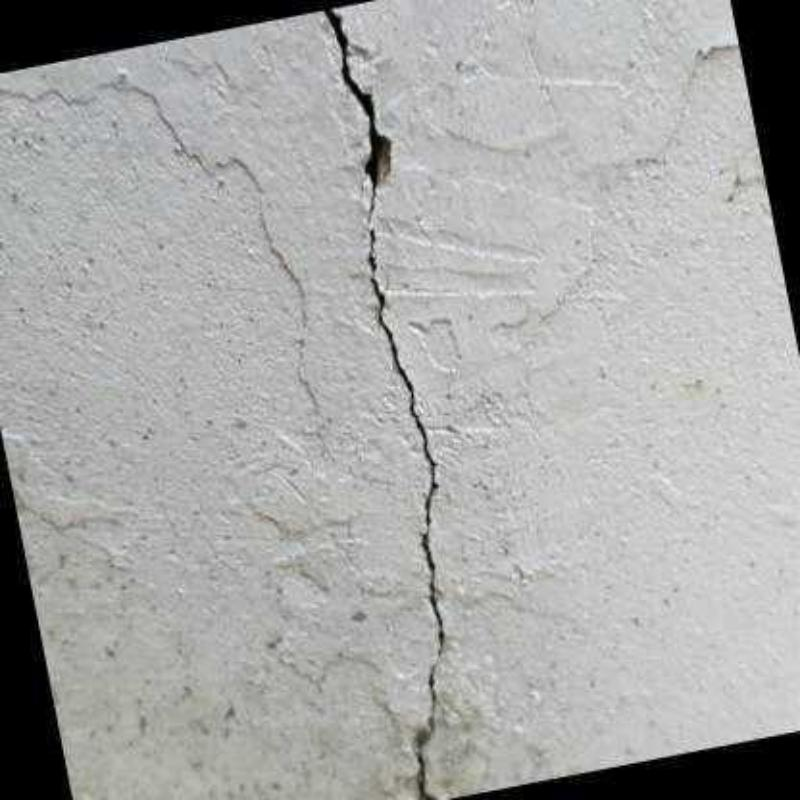pothole: (324, 8, 444, 799)
